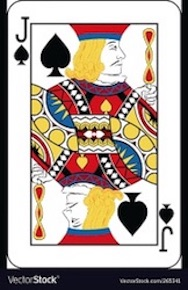JackOfSpades: (7, 1, 182, 269)
